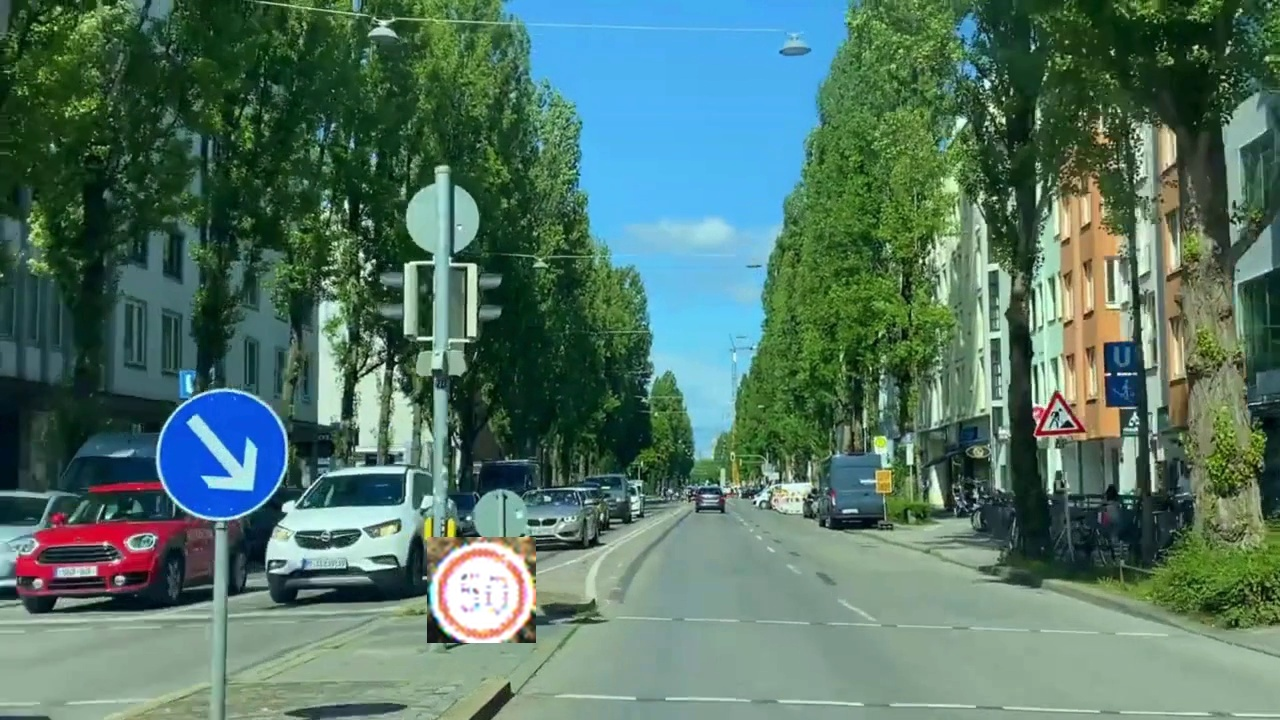Speed 50: (427, 537, 536, 643)
